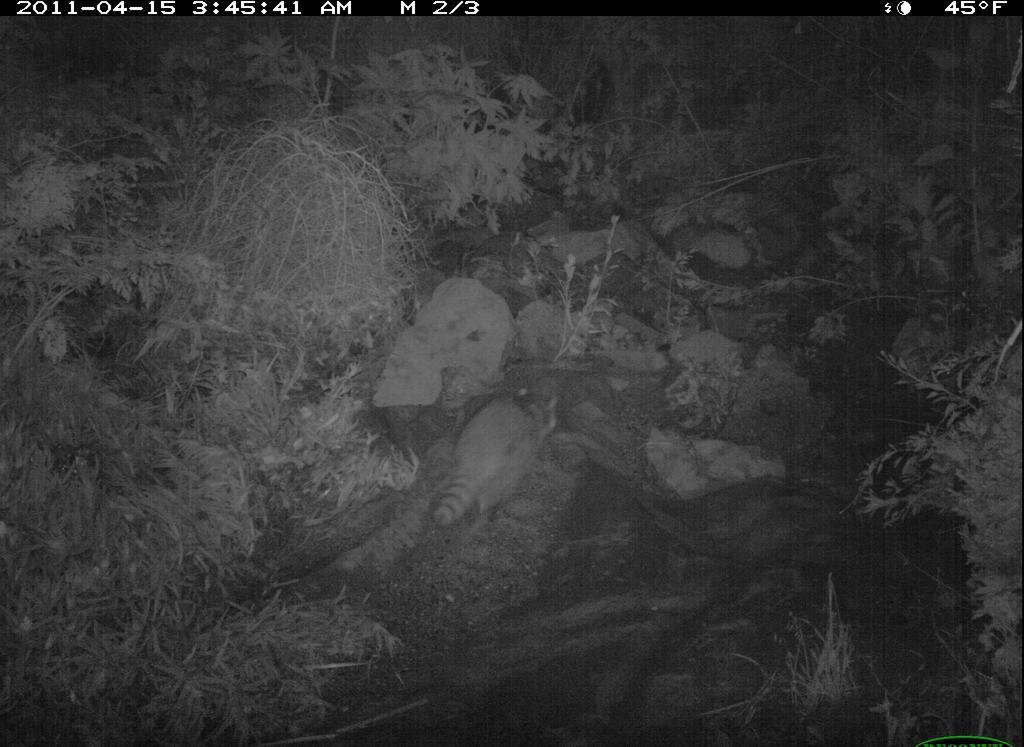raccoon: (419, 385, 562, 550)
